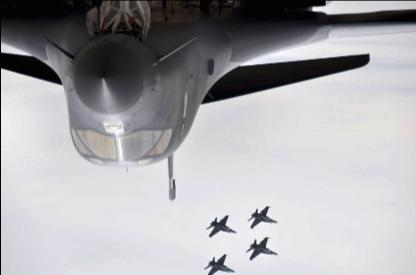AV8B: (1, 1, 415, 204)
F15: (245, 236, 278, 261), (246, 206, 278, 229), (206, 215, 236, 238), (202, 253, 236, 273)
